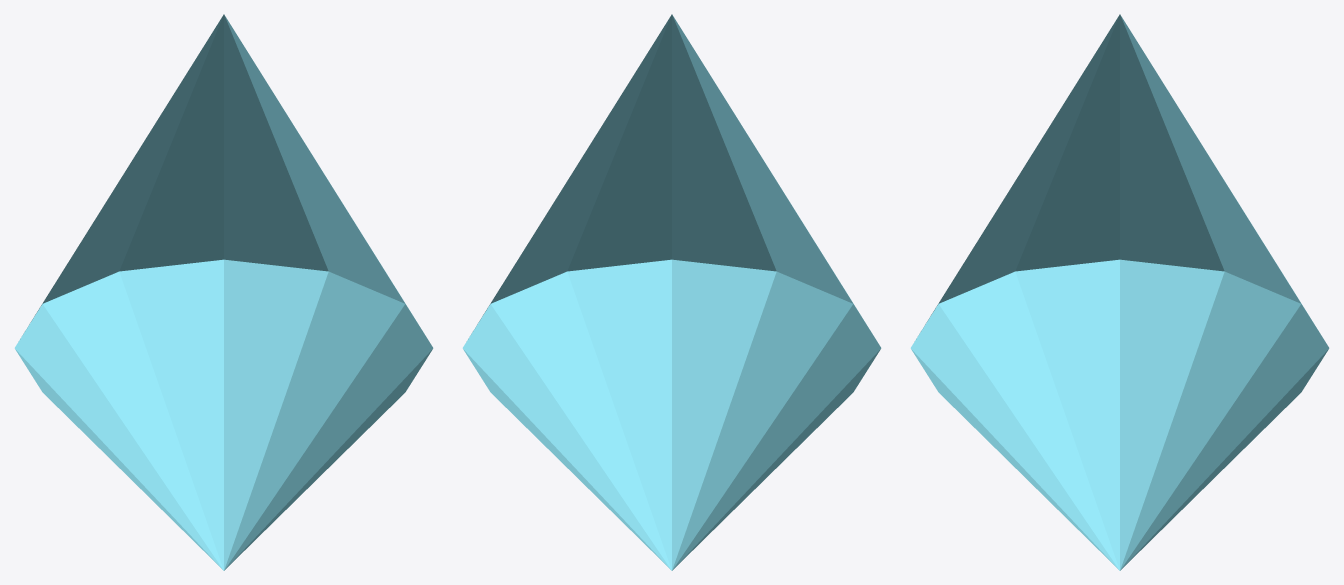
The model's file is diamond.glb.
3 renders of one model, left to right at view 1: azimuth 30°, elevation 25°; view 2: azimuth 150°, elevation 25°; view 3: azimuth 270°, elevation 25°, orthographic.
Visible parts, largest first — view 1: diamond; view 2: diamond; view 3: diamond.
Part boxes in pixels (x1,y1,x2,y2): diamond: (14,14,433,570); diamond: (462,14,881,570); diamond: (910,14,1329,570).
Size of the model in its own units: 1.5 by 2.2 by 1.5.
